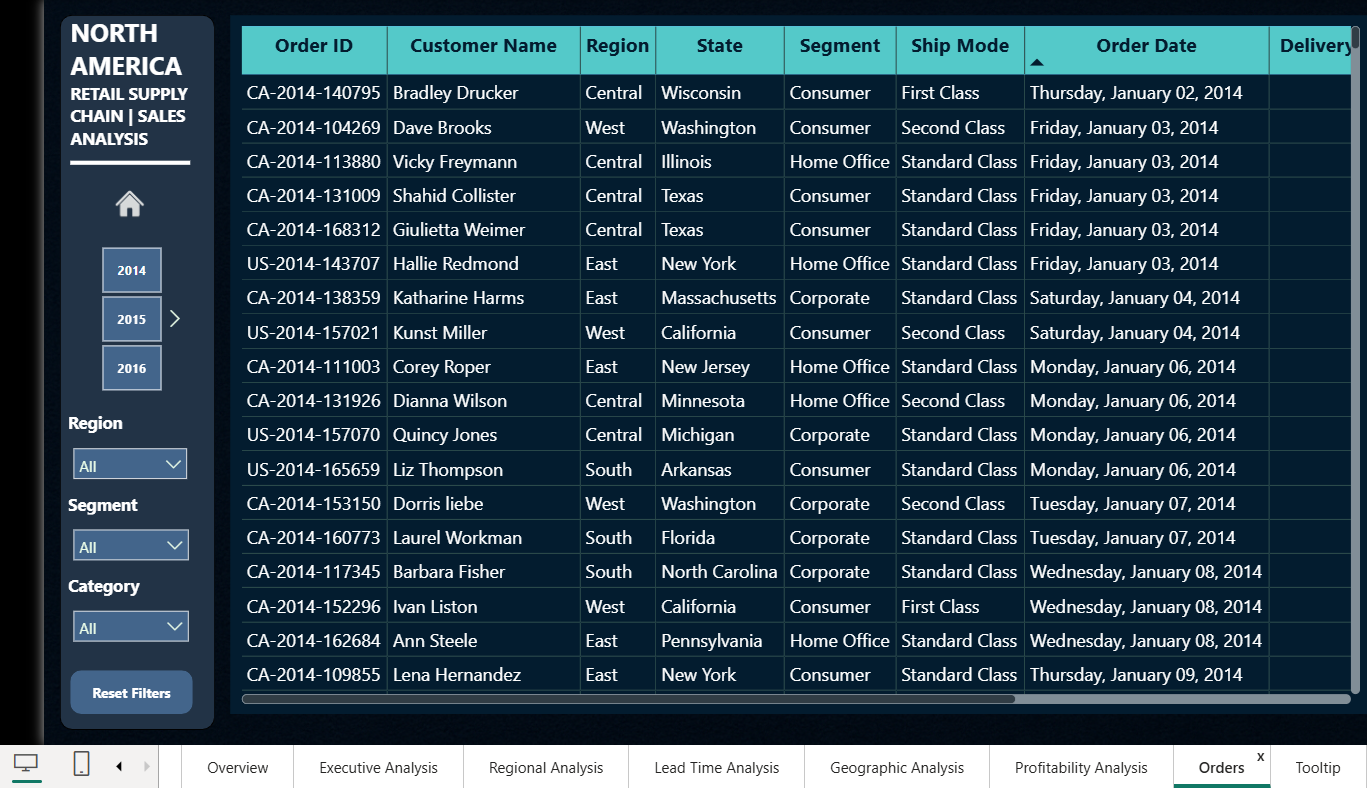

What the dashboard file says about the page in this screenshot:
{"tool":"powerbi","page":{"name":"Orders","canvas":[1280,720],"ordinal":7},"visuals":[{"type":"image","box":[54.3,167.7,59.1,60.3],"z":0},{"type":"shape","box":[0,0,179.8,720.2],"z":1000},{"type":"shape","box":[25.3,105,115.8,106.2],"z":2000},{"type":"textbox","box":[25.3,15.7,141.2,174.9],"z":3000},{"type":"image","box":[53.1,167.7,59.1,60.3],"z":4000},{"type":"slicer","fields":{"Values":["Calendar_Table.Date.Variation.Date Hierarchy.Year"]},"box":[25.3,228,117,161.7],"z":5000},{"type":"slicer","title":"Region","fields":{"Values":["Retails_Order.Region"]},"box":[13.3,387.3,139.9,85.7],"z":6000},{"type":"slicer","title":"Segment","fields":{"Values":["DIM_Customer.Segment"]},"box":[13.3,465.7,141.2,85.7],"z":7000},{"type":"slicer","title":"Category","fields":{"Values":["DIM_Product.Category"]},"box":[13.3,544.1,141.2,85.7],"z":8000},{"type":"actionButton","box":[25.3,647.9,118.2,42.2],"z":9000},{"type":"tableEx","fields":{"Values":["Retails_Order.Order ID","Retails_Order.Customer Name","Retails_Order.Region","Retails_Order.State","Retails_Order.Segment","Retails_Order.Ship Mode","Retails_Order.Order Date","Sum(Retails_Order.Days)","Sum(Retails_Order.Sales)","Sum(Retails_Order.Profit)","delivery pie chart.Profit Ratio"]},"box":[179.8,15.7,1100.3,674.4],"z":10000}]}

Visuals, with their boxes on the page's 1280x720 design canvas (x1, y1, x2, y2). These are canvas units, not pixel positions in the 1367x788 screenshot, which may show the page scaled, cropped or inside an application window:
image: <region>54, 168, 113, 228</region>
shape: <region>0, 0, 180, 720</region>
shape: <region>25, 105, 141, 211</region>
textbox: <region>25, 16, 166, 191</region>
image: <region>53, 168, 112, 228</region>
slicer - Calendar_Table.Date.Variation.Date Hierarchy.Year: <region>25, 228, 142, 390</region>
"Region" slicer: <region>13, 387, 153, 473</region>
"Segment" slicer: <region>13, 466, 154, 551</region>
"Category" slicer: <region>13, 544, 154, 630</region>
actionButton: <region>25, 648, 144, 690</region>
tableEx - Retails_Order.Order ID x Retails_Order.Customer Name: <region>180, 16, 1280, 690</region>
